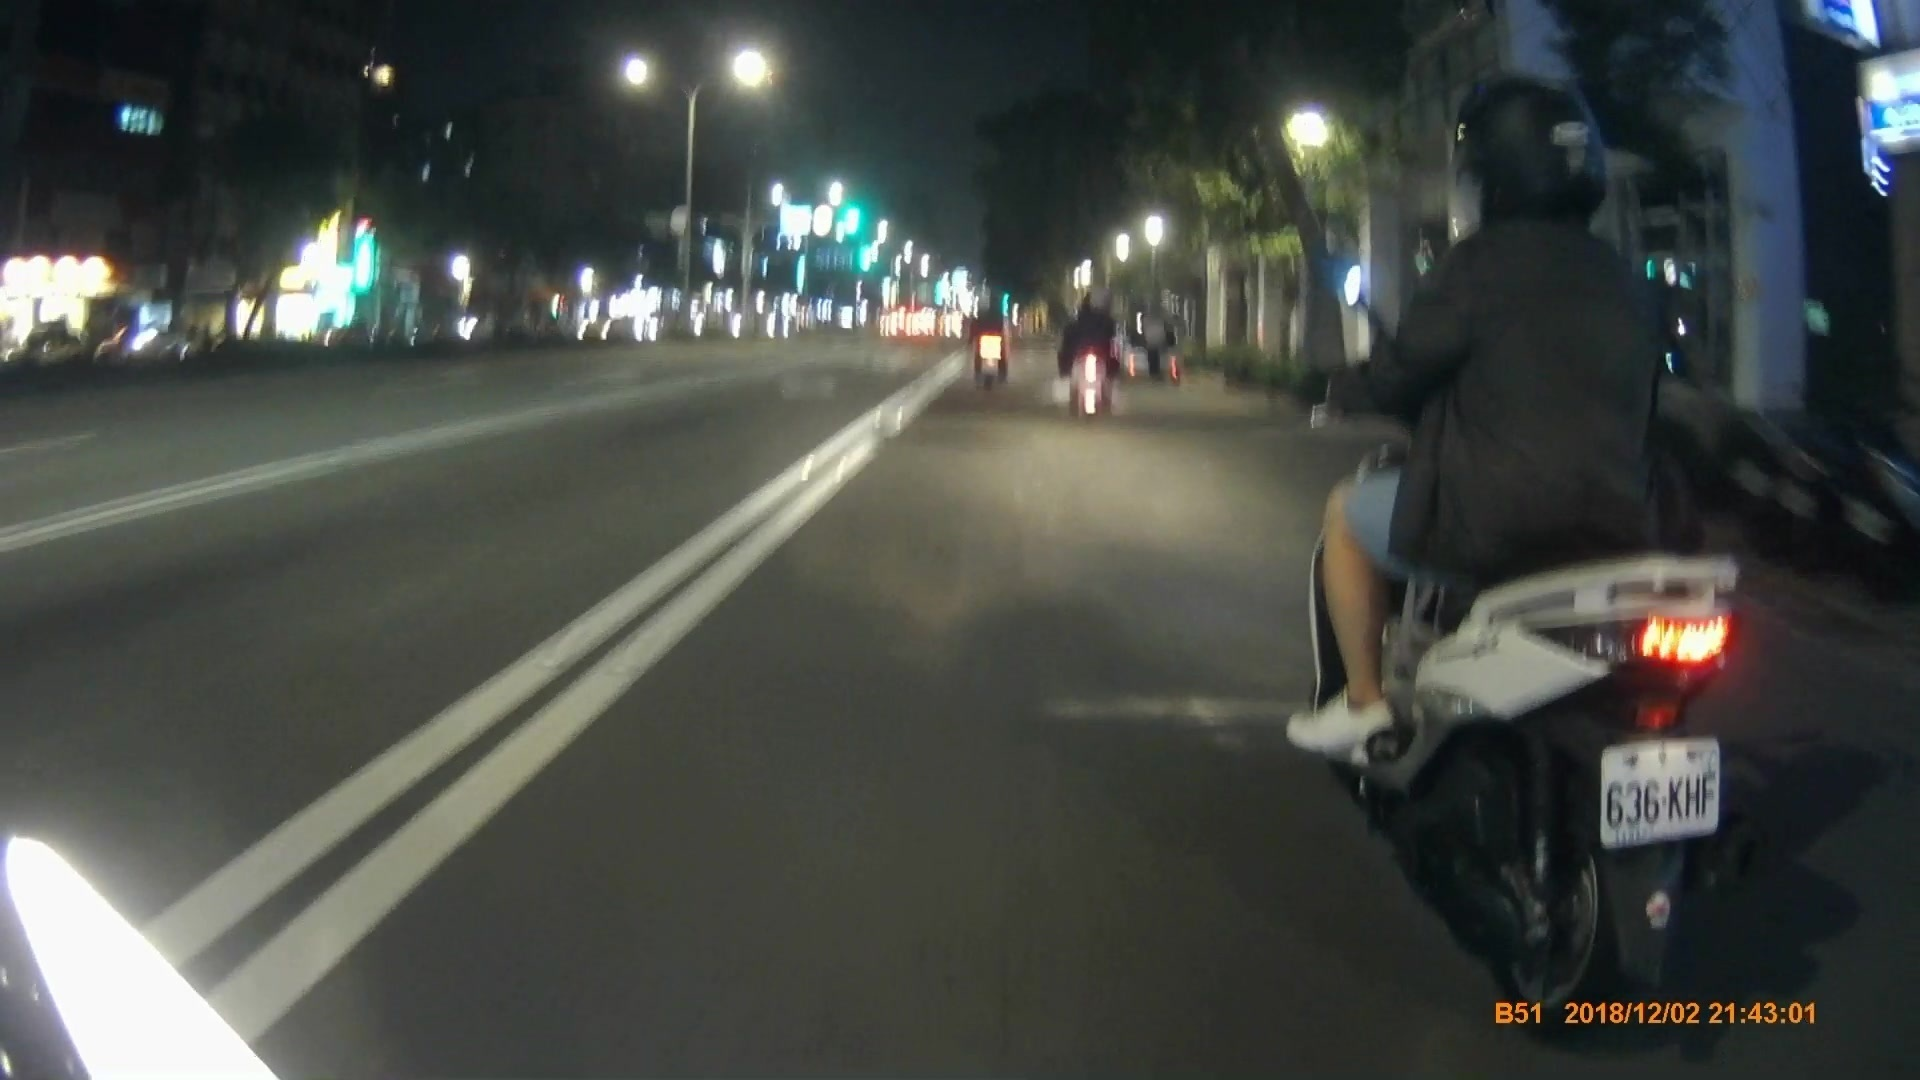License_plate: (1604, 747, 1722, 837)
